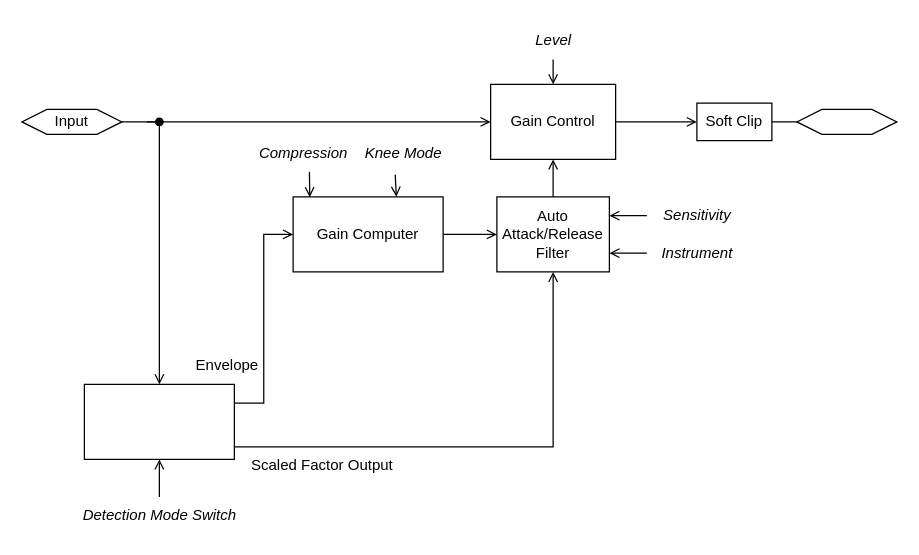
Image size: 919x555. Some labels were removed from this diagram. Here are the shapes that lost their labels. From the top down, the centre of each, then its label:
At (x=846, y=121): "Output".
At (x=158, y=421): "Transient Detection".
